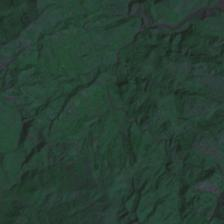landslides: (127, 0, 224, 47)
